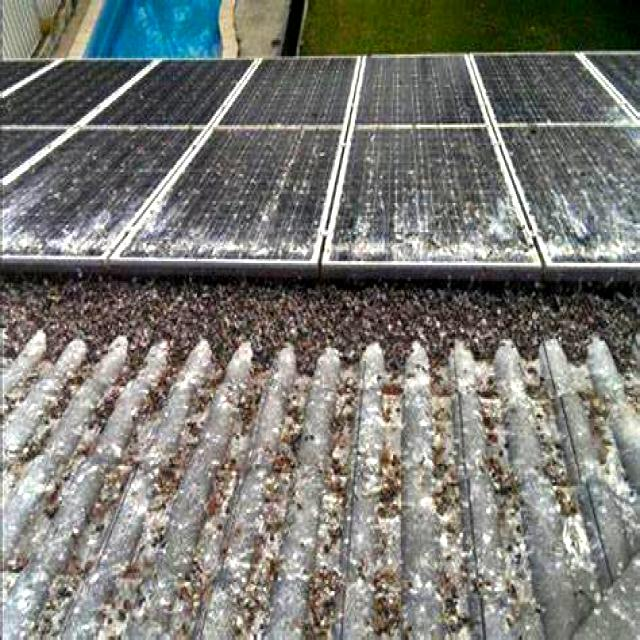bird: (545, 188, 629, 250), (435, 192, 517, 250), (137, 186, 197, 260), (344, 201, 422, 251), (50, 206, 116, 252), (0, 191, 27, 254)
